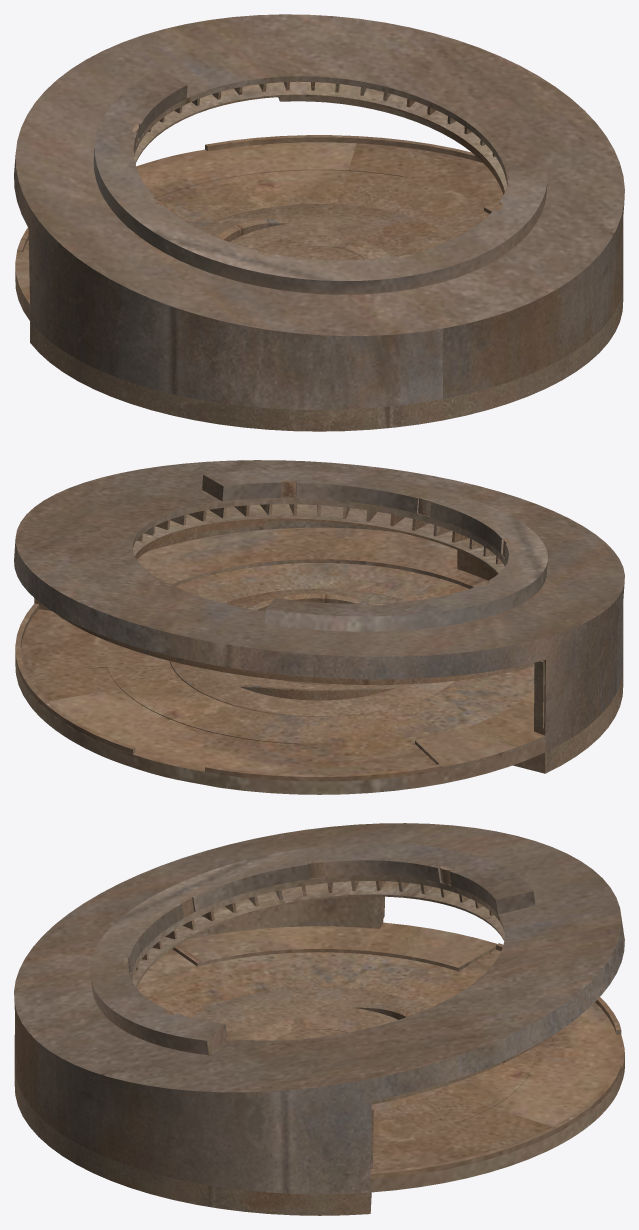
File: xi_dsp_helipad.gltf
The picture shows the model from 3 angles, top to bottom: view 1: azimuth 30°, elevation 25°; view 2: azimuth 150°, elevation 25°; view 3: azimuth 270°, elevation 25°; orthographic projection.
Visible parts, largest first — view 1: xi_dsp_helipad; view 2: xi_dsp_helipad; view 3: xi_dsp_helipad.
Boxes of the visible parts, box(x1,y1,x2,y2) form: xi_dsp_helipad: box(14, 14, 624, 431); xi_dsp_helipad: box(14, 460, 624, 794); xi_dsp_helipad: box(14, 823, 624, 1215).
Bounding box in the file's own units: 71.38 × 21.83 × 71.15.
2 materials, 2 textured.
